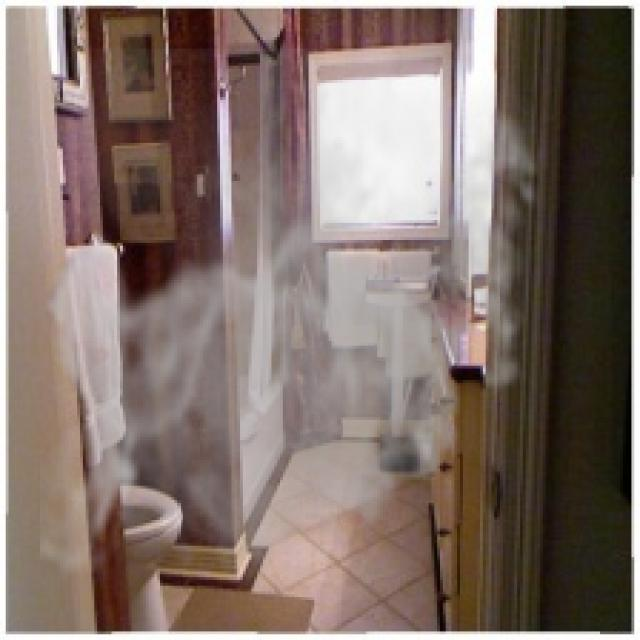smoke: (40, 48, 554, 603)
